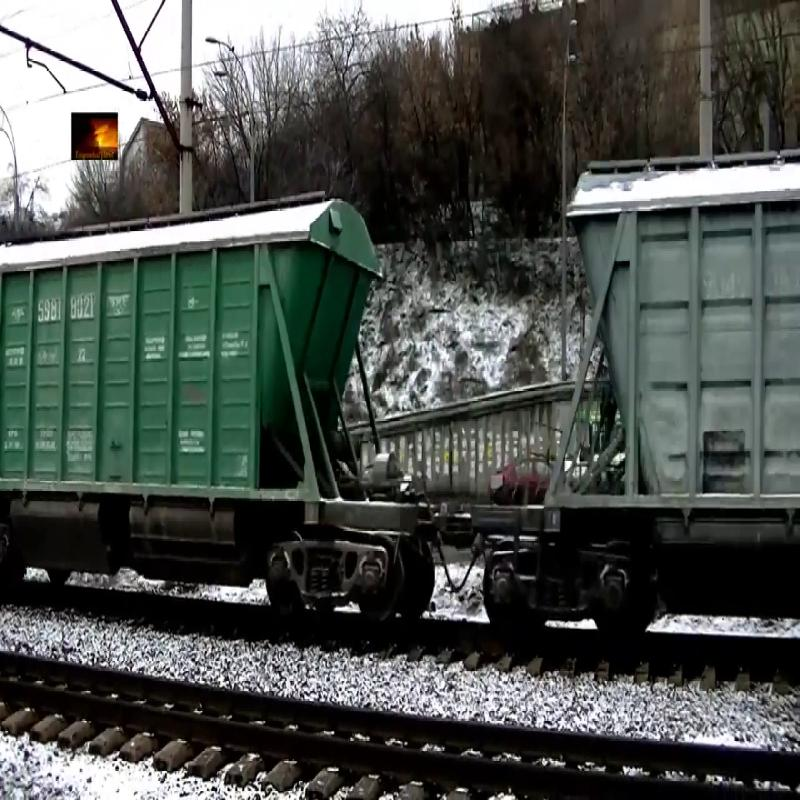train: (2, 186, 385, 556), (543, 142, 800, 563)
